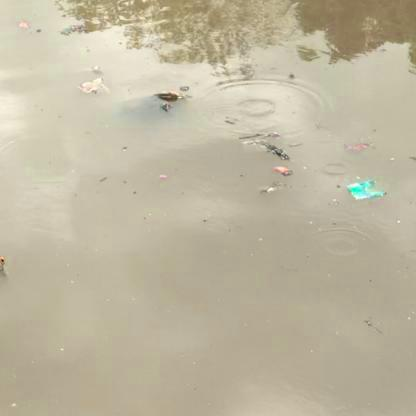Trash: (345, 176, 388, 206), (75, 76, 110, 101)
